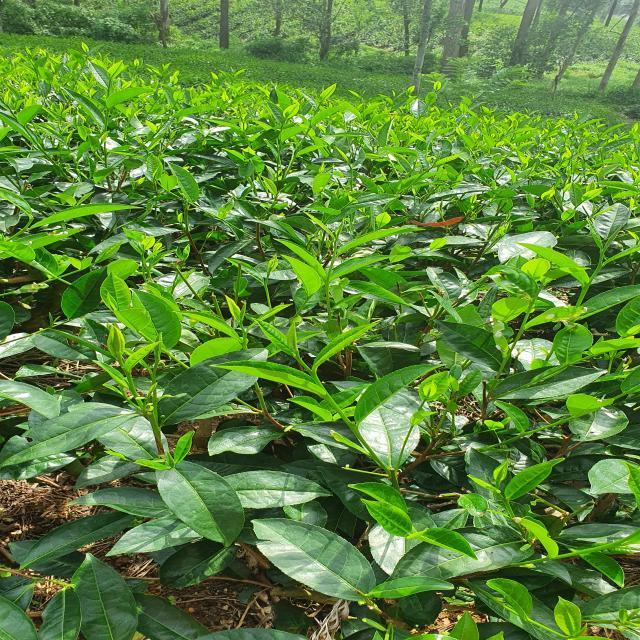Stem: (313, 375, 328, 394), (591, 265, 603, 279), (126, 373, 135, 391), (503, 501, 513, 513), (329, 255, 337, 269), (151, 378, 157, 394), (15, 228, 26, 236), (526, 305, 533, 317), (264, 283, 269, 295), (242, 335, 247, 346), (107, 88, 110, 98)
